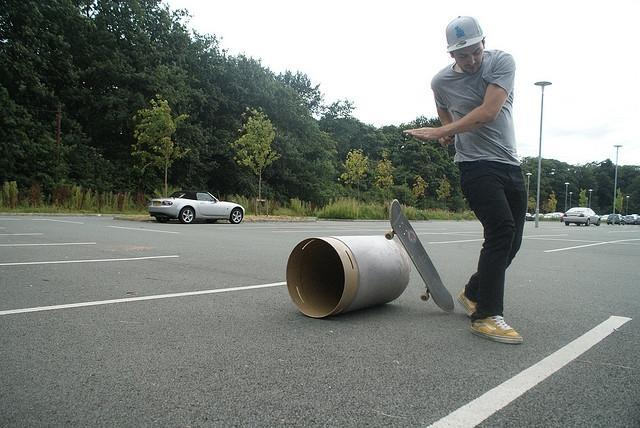car: (148, 189, 246, 226), (560, 206, 602, 228), (606, 214, 626, 225), (625, 215, 640, 225), (602, 214, 610, 221), (546, 212, 552, 218), (526, 212, 530, 220), (531, 214, 536, 220)
